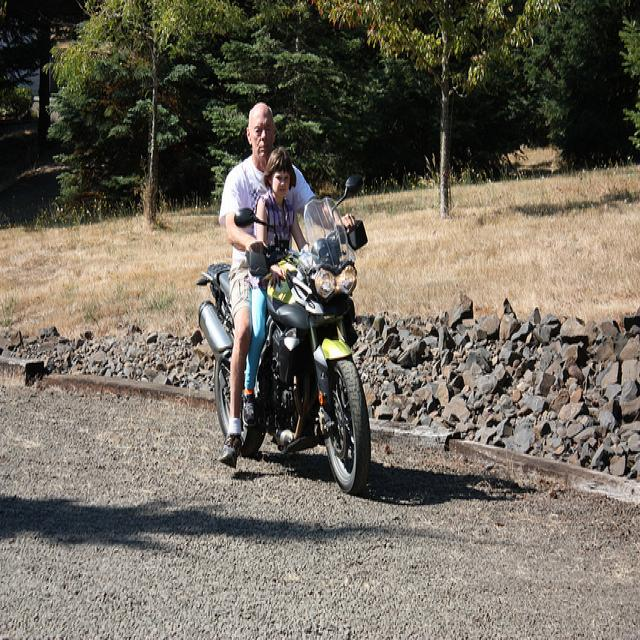motor: (196, 176, 371, 495)
